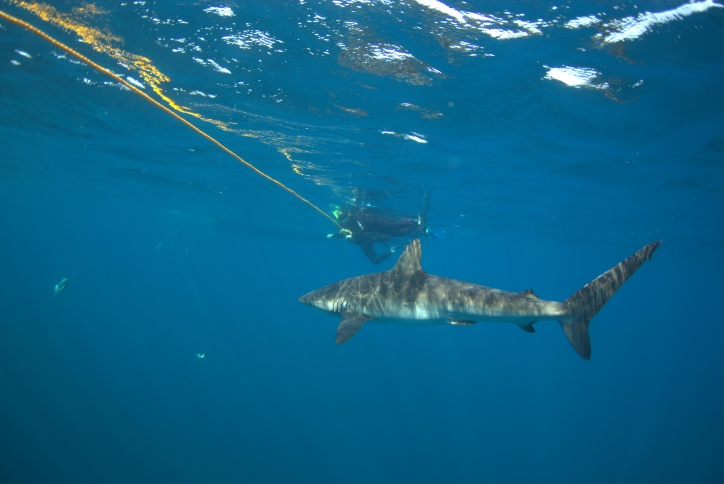Sedoso: (284, 236, 668, 368)
